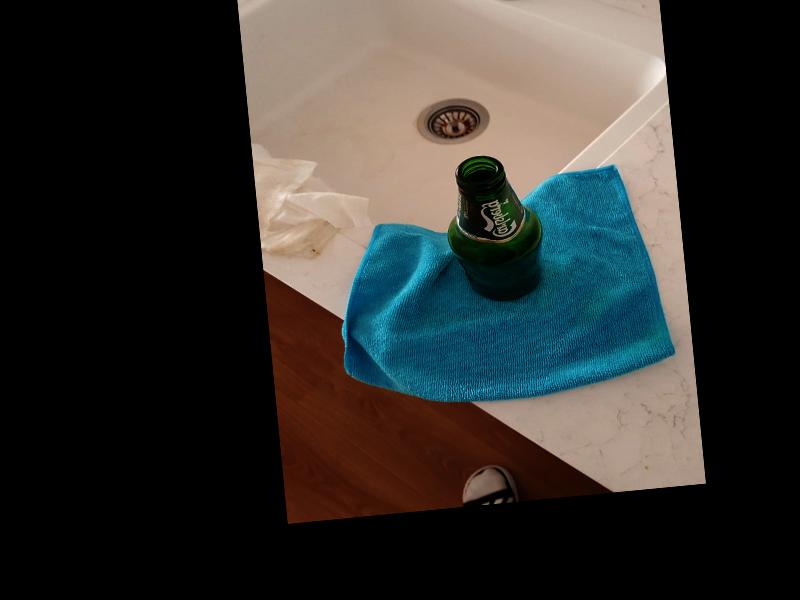Beer: (440, 152, 544, 307)
